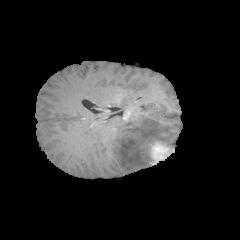glioma: (110, 110, 173, 172)
